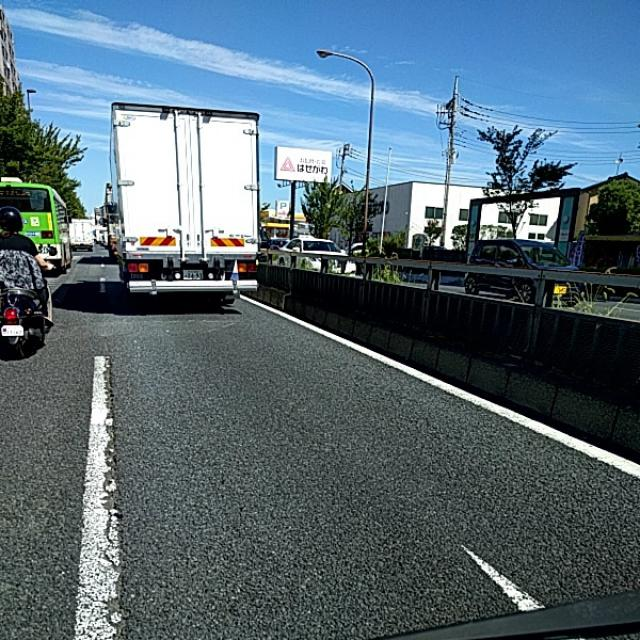pothole: (86, 442, 150, 584)
